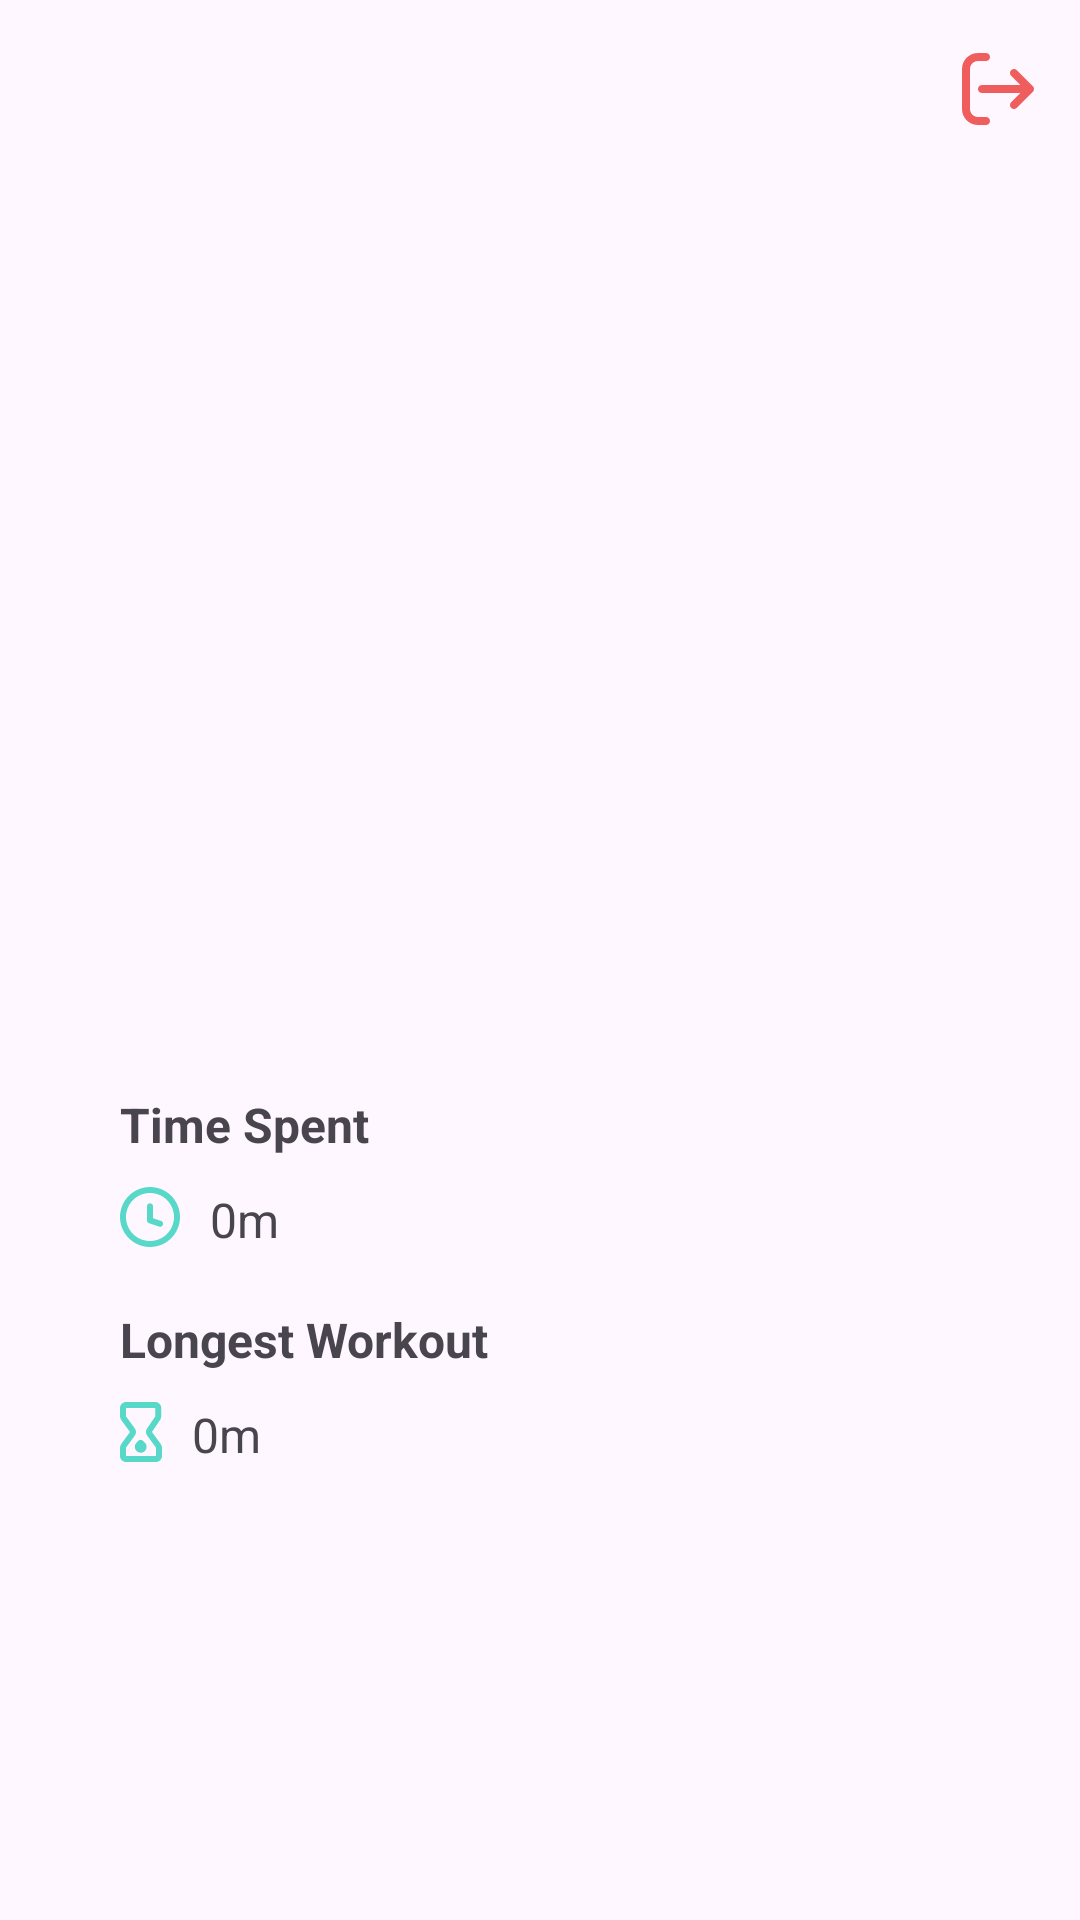

Icon click points for this 1080px×1920px phone screenshot, format (x=x, y=y):
clock: (x=150, y=1217)
sandclock: (x=141, y=1432)
